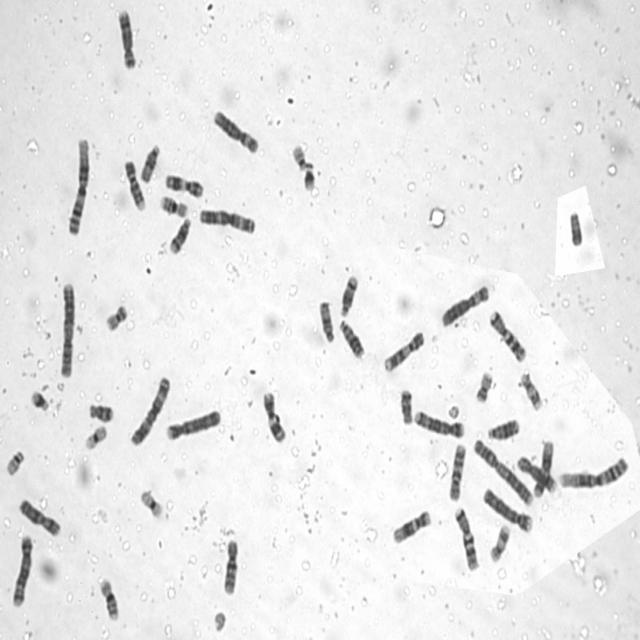A1: (557, 452, 629, 490), (66, 135, 92, 239)
A2: (471, 435, 534, 507), (57, 278, 76, 380)
A3: (128, 372, 172, 448), (196, 204, 258, 237)
B4: (480, 484, 534, 534), (163, 406, 222, 442)
B5: (10, 531, 34, 608), (412, 406, 465, 438)
C10: (446, 440, 467, 502), (220, 536, 240, 596)
C11: (260, 388, 286, 444), (163, 170, 205, 199)
C12: (390, 506, 433, 546), (531, 436, 555, 499)
C6: (439, 282, 490, 328), (212, 107, 260, 155)
C7: (487, 306, 527, 363), (452, 504, 479, 571)
C8: (515, 452, 557, 494), (116, 7, 137, 70)
C9: (382, 328, 426, 372), (123, 158, 147, 212)
D13: (336, 317, 366, 360), (486, 416, 520, 442)
D14: (338, 272, 360, 317), (168, 215, 192, 255)
D15: (138, 142, 161, 184), (317, 298, 336, 344)
E16: (97, 575, 120, 623), (158, 194, 188, 218)
E17: (519, 368, 543, 413), (488, 522, 510, 564)
E18: (398, 386, 414, 426), (87, 400, 114, 423)
F19: (139, 486, 164, 520), (82, 422, 108, 451)
F20: (104, 300, 130, 332), (474, 368, 494, 405)
G21: (28, 388, 51, 412), (303, 168, 322, 192)
G22: (4, 448, 26, 477), (291, 141, 310, 171)
X: (18, 496, 61, 538)
Y: (568, 208, 584, 246)
